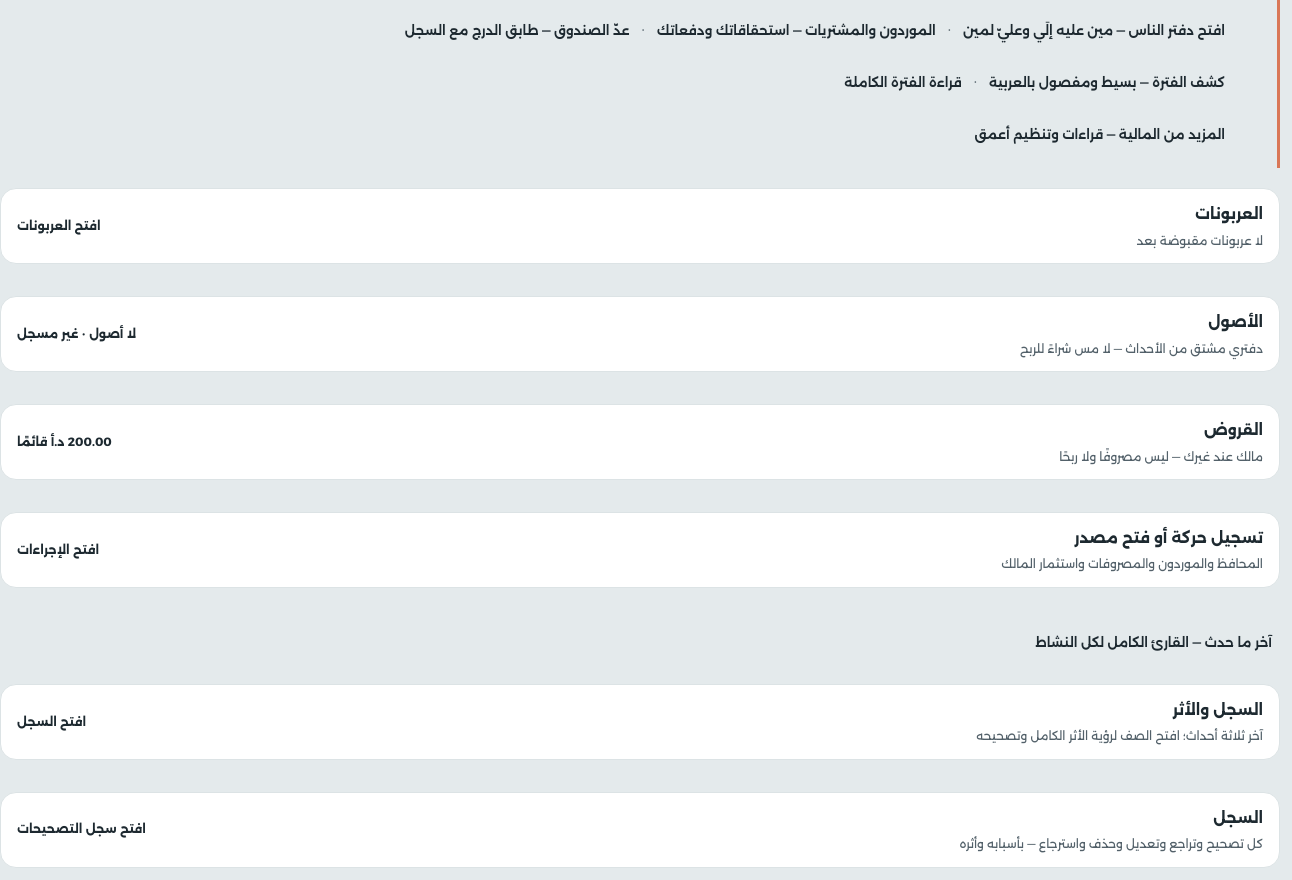
family-owned events are corrected only through their owner record (FT-03) › loan events route to the loan page and never expose general corrections
The image size is (1292, 880).
(page scrolled)
Click the heading that starts with "السجل والأثر": (1218, 709) 0,684 -> 1280,760
(page scrolled)
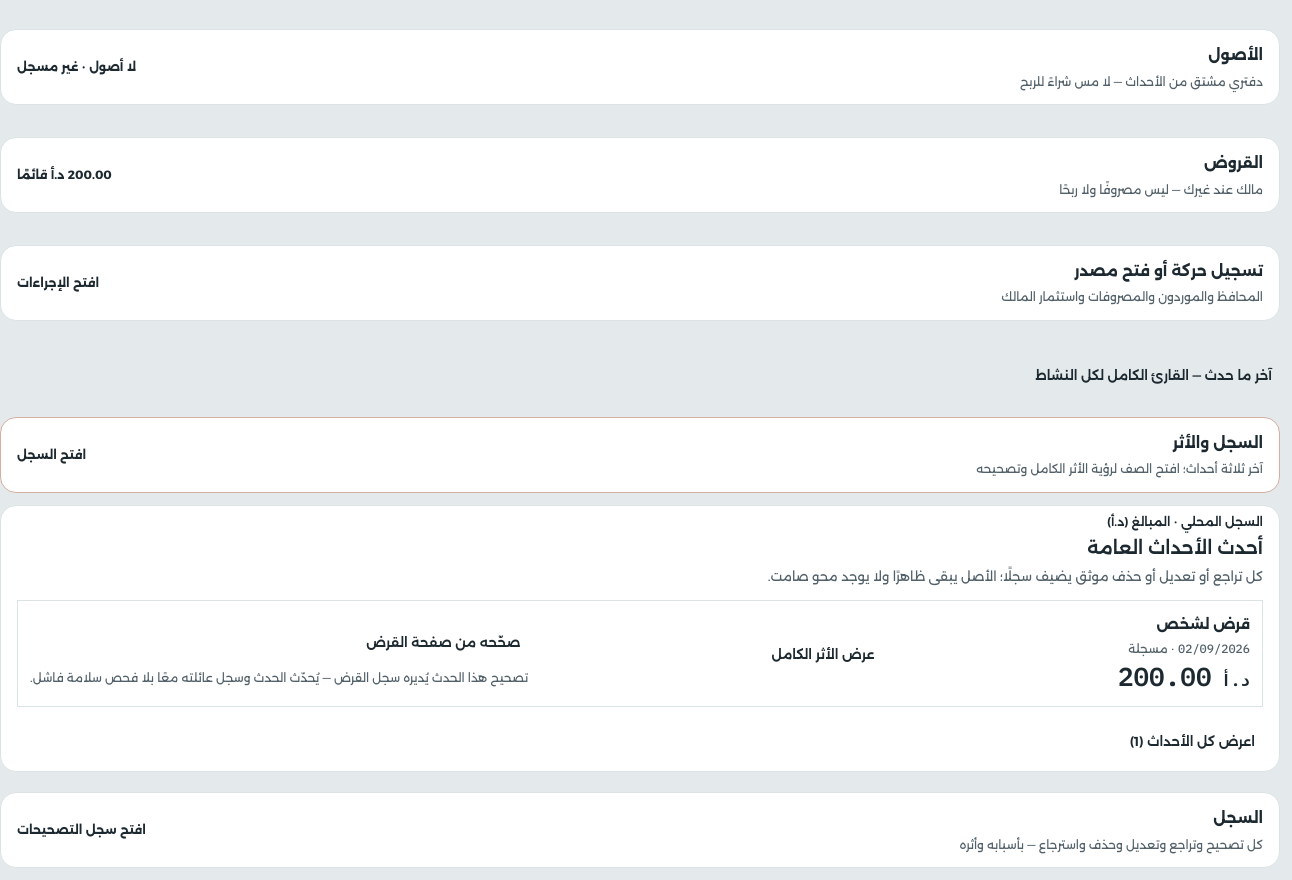
Result: the heading "أحدث الأحداث العامة" is shown at 1087,536 -> 1263,558
Result: the button "صحّحه من صفحة القرض" is shown at 358,620 -> 528,664
